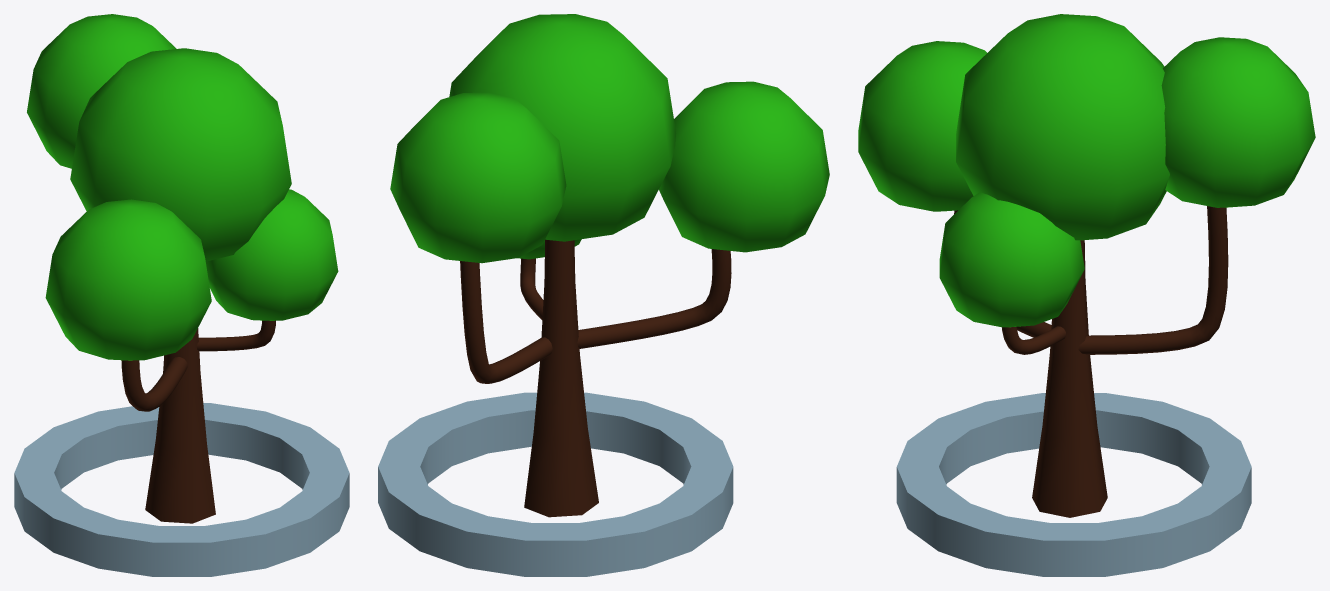
File: Tree.fbx
The picture shows the model from 3 angles, left to right: view 1: azimuth 30°, elevation 25°; view 2: azimuth 150°, elevation 25°; view 3: azimuth 270°, elevation 25°; orthographic projection. The views are drawn at different scales.
Parts seen in each view (by area): view 1: Tree; view 2: Tree; view 3: Tree.
Part boxes in pixels (box(x1,y1,x2,y2)): Tree: box(14, 14, 349, 576); Tree: box(378, 14, 829, 576); Tree: box(858, 14, 1315, 576).
Bounding box in the file's own units: 124 × 163 × 141.
